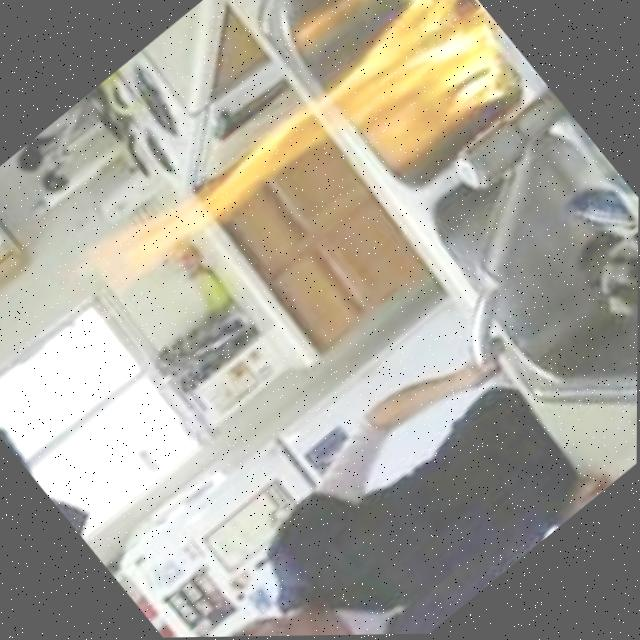Fire: (59, 0, 527, 379)
